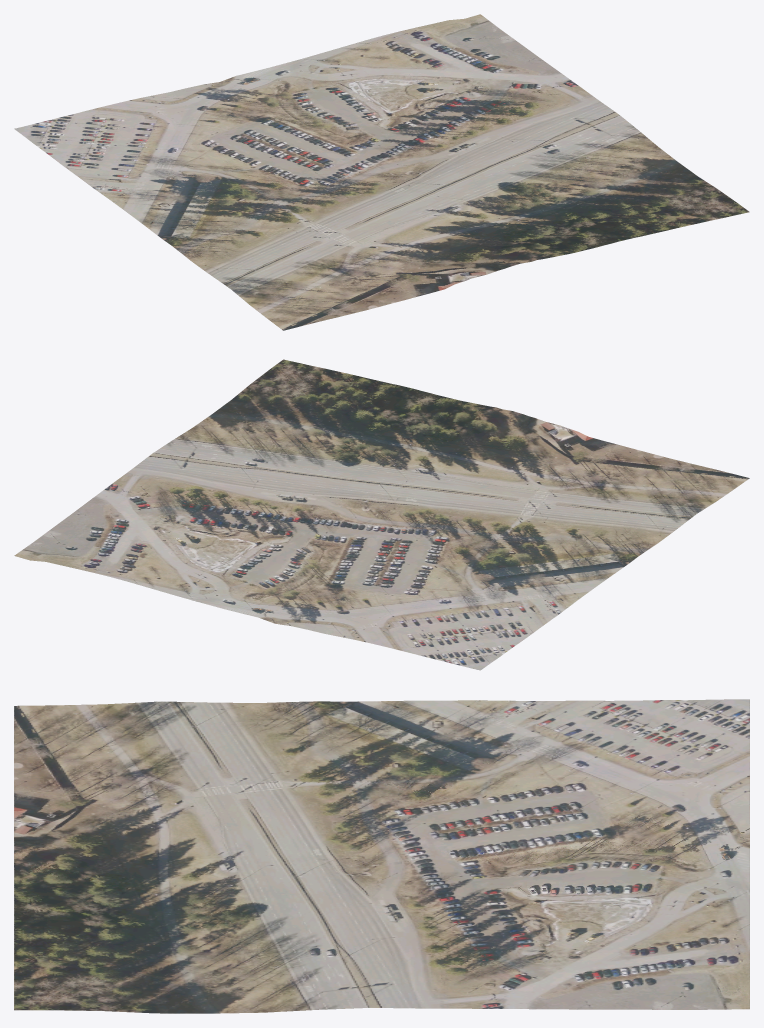
File: CM_Terrain_24490458_6821636.fbx
3 renders of one model, top to bottom at view 1: azimuth 30°, elevation 25°; view 2: azimuth 150°, elevation 25°; view 3: azimuth 270°, elevation 25°, orthographic. The views are drawn at different scales.
Parts seen in each view (by area): view 1: CM_Terrain_24490458_6821636_LOD0; view 2: CM_Terrain_24490458_6821636_LOD0; view 3: CM_Terrain_24490458_6821636_LOD0.
Boxes of the visible parts, x1=… form: CM_Terrain_24490458_6821636_LOD0: x1=14, y1=14, x2=749, y2=330; CM_Terrain_24490458_6821636_LOD0: x1=14, y1=359, x2=749, y2=670; CM_Terrain_24490458_6821636_LOD0: x1=14, y1=699, x2=749, y2=1013.
Size of what is drawn, in the model's own units: 205 by 3.89 by 205.
